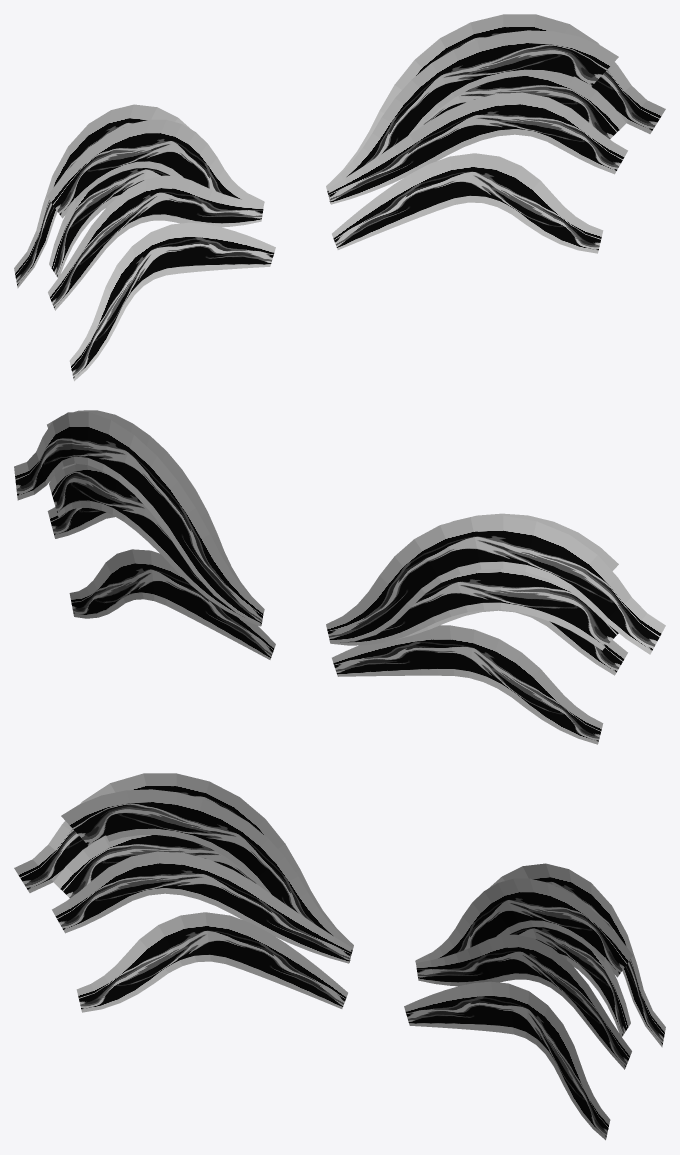
The model's file is SM_Wing_02.fbx.
3 renders of one model, top to bottom at view 1: azimuth 30°, elevation 25°; view 2: azimuth 150°, elevation 25°; view 3: azimuth 330°, elevation 25°, orthographic.
Parts seen in each view (by area): view 1: SM_Wing_02; view 2: SM_Wing_02; view 3: SM_Wing_02.
Boxes of the visible parts, box(x1,y1,x2,y2) form: SM_Wing_02: box(14, 14, 665, 381); SM_Wing_02: box(14, 410, 665, 744); SM_Wing_02: box(14, 773, 665, 1140).
Bounding box in the file's own units: 1000 × 343 × 120.
